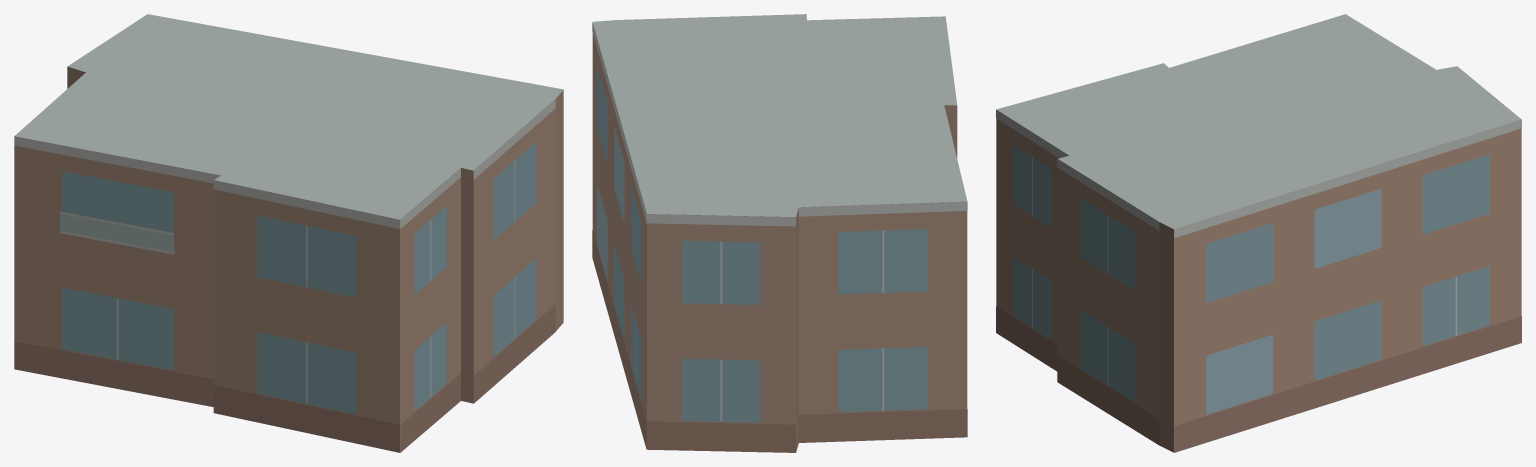
File: survey-upis-32892346.glb
The picture shows the model from 3 angles, left to right: view 1: azimuth 30°, elevation 25°; view 2: azimuth 150°, elevation 25°; view 3: azimuth 270°, elevation 25°; orthographic projection. The views are drawn at different scales.
Visible parts, largest first — view 1: survey-upis-32892346.tmp; view 2: survey-upis-32892346.tmp; view 3: survey-upis-32892346.tmp.
Part boxes in pixels (<box>): survey-upis-32892346.tmp: <box>14,14,563,452</box>; survey-upis-32892346.tmp: <box>592,14,967,452</box>; survey-upis-32892346.tmp: <box>996,14,1521,452</box>.
Size of the model in its own units: 12.62 by 6.1 by 13.01.
